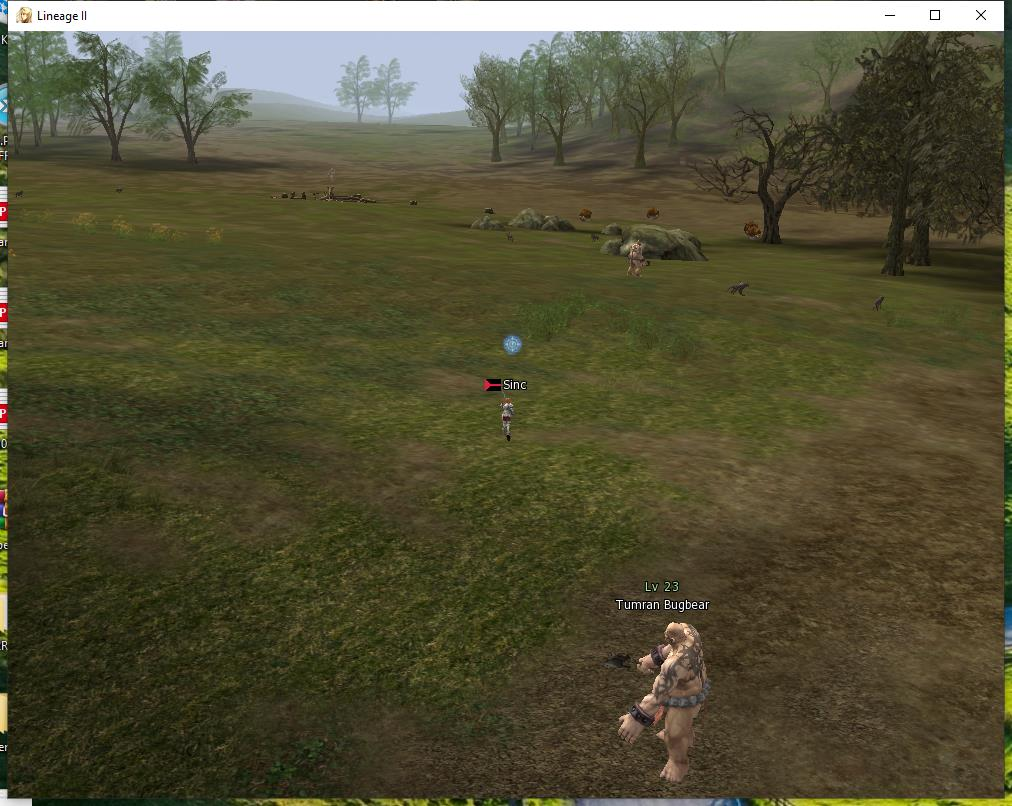monster: (588, 566, 732, 791), (618, 232, 660, 283), (723, 267, 751, 310), (735, 214, 767, 248), (870, 283, 895, 320), (573, 205, 599, 230), (645, 199, 666, 226)
